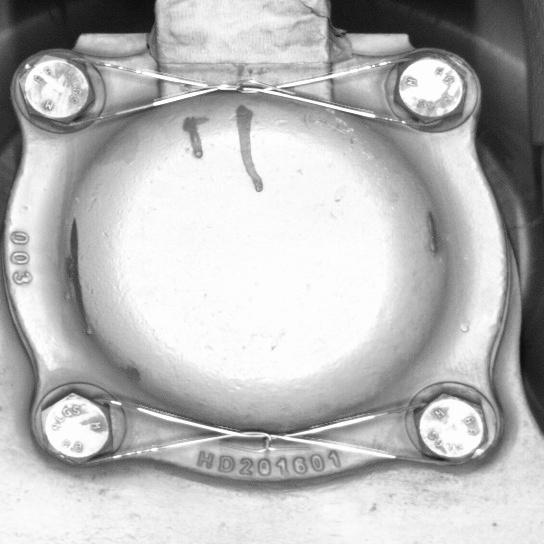IronWire: (28, 381, 497, 472), (9, 45, 477, 134)
Screw: (28, 381, 119, 469), (11, 46, 103, 133), (385, 44, 476, 131), (404, 385, 495, 470)
